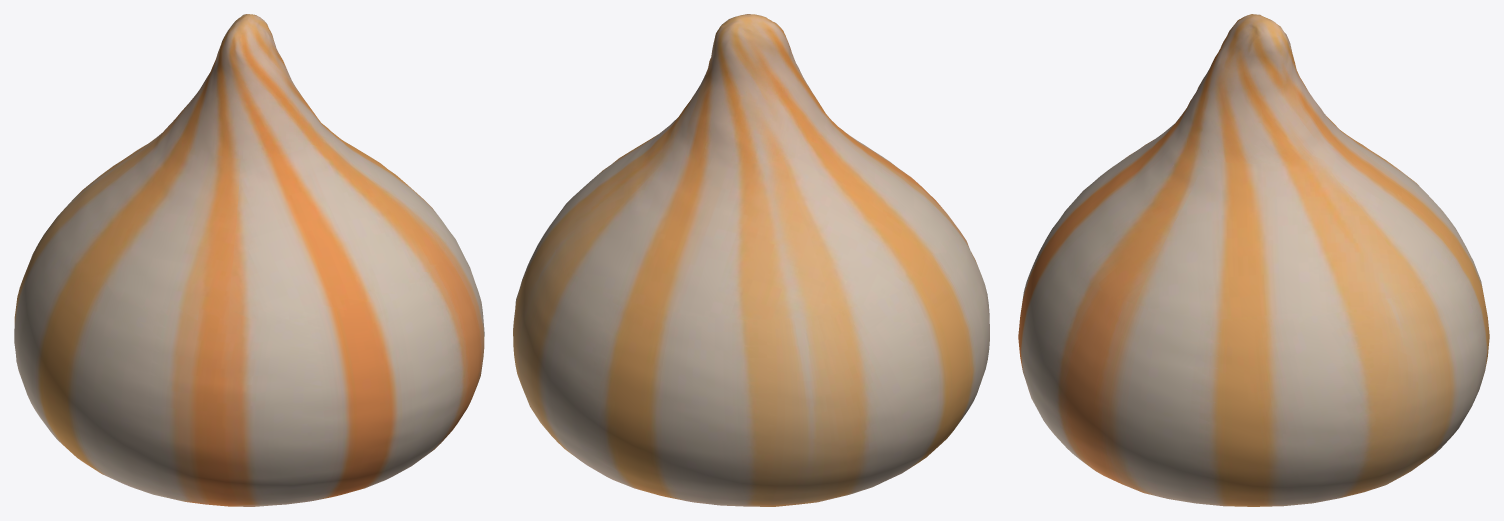
3 views of the same model, side by side, from view 1: azimuth 30°, elevation 25°; view 2: azimuth 150°, elevation 25°; view 3: azimuth 270°, elevation 25° (orthographic).
Parts seen in each view (by area): view 1: Striped Fish Dumpling; view 2: Striped Fish Dumpling; view 3: Striped Fish Dumpling.
Part boxes in pixels (bbox=[...]): Striped Fish Dumpling: bbox=[14, 14, 484, 506]; Striped Fish Dumpling: bbox=[513, 14, 989, 506]; Striped Fish Dumpling: bbox=[1018, 14, 1489, 506].
Bounding box in the file's own units: 0.9746 × 0.998 × 0.9785.
Materials: 1 (1 with a texture image).
